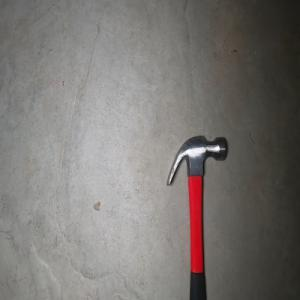Hammer: (165, 134, 227, 300)
